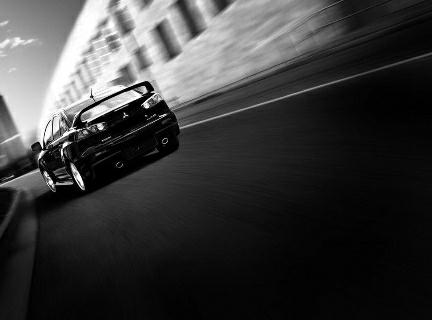三菱-LANCER: (30, 78, 186, 200)
